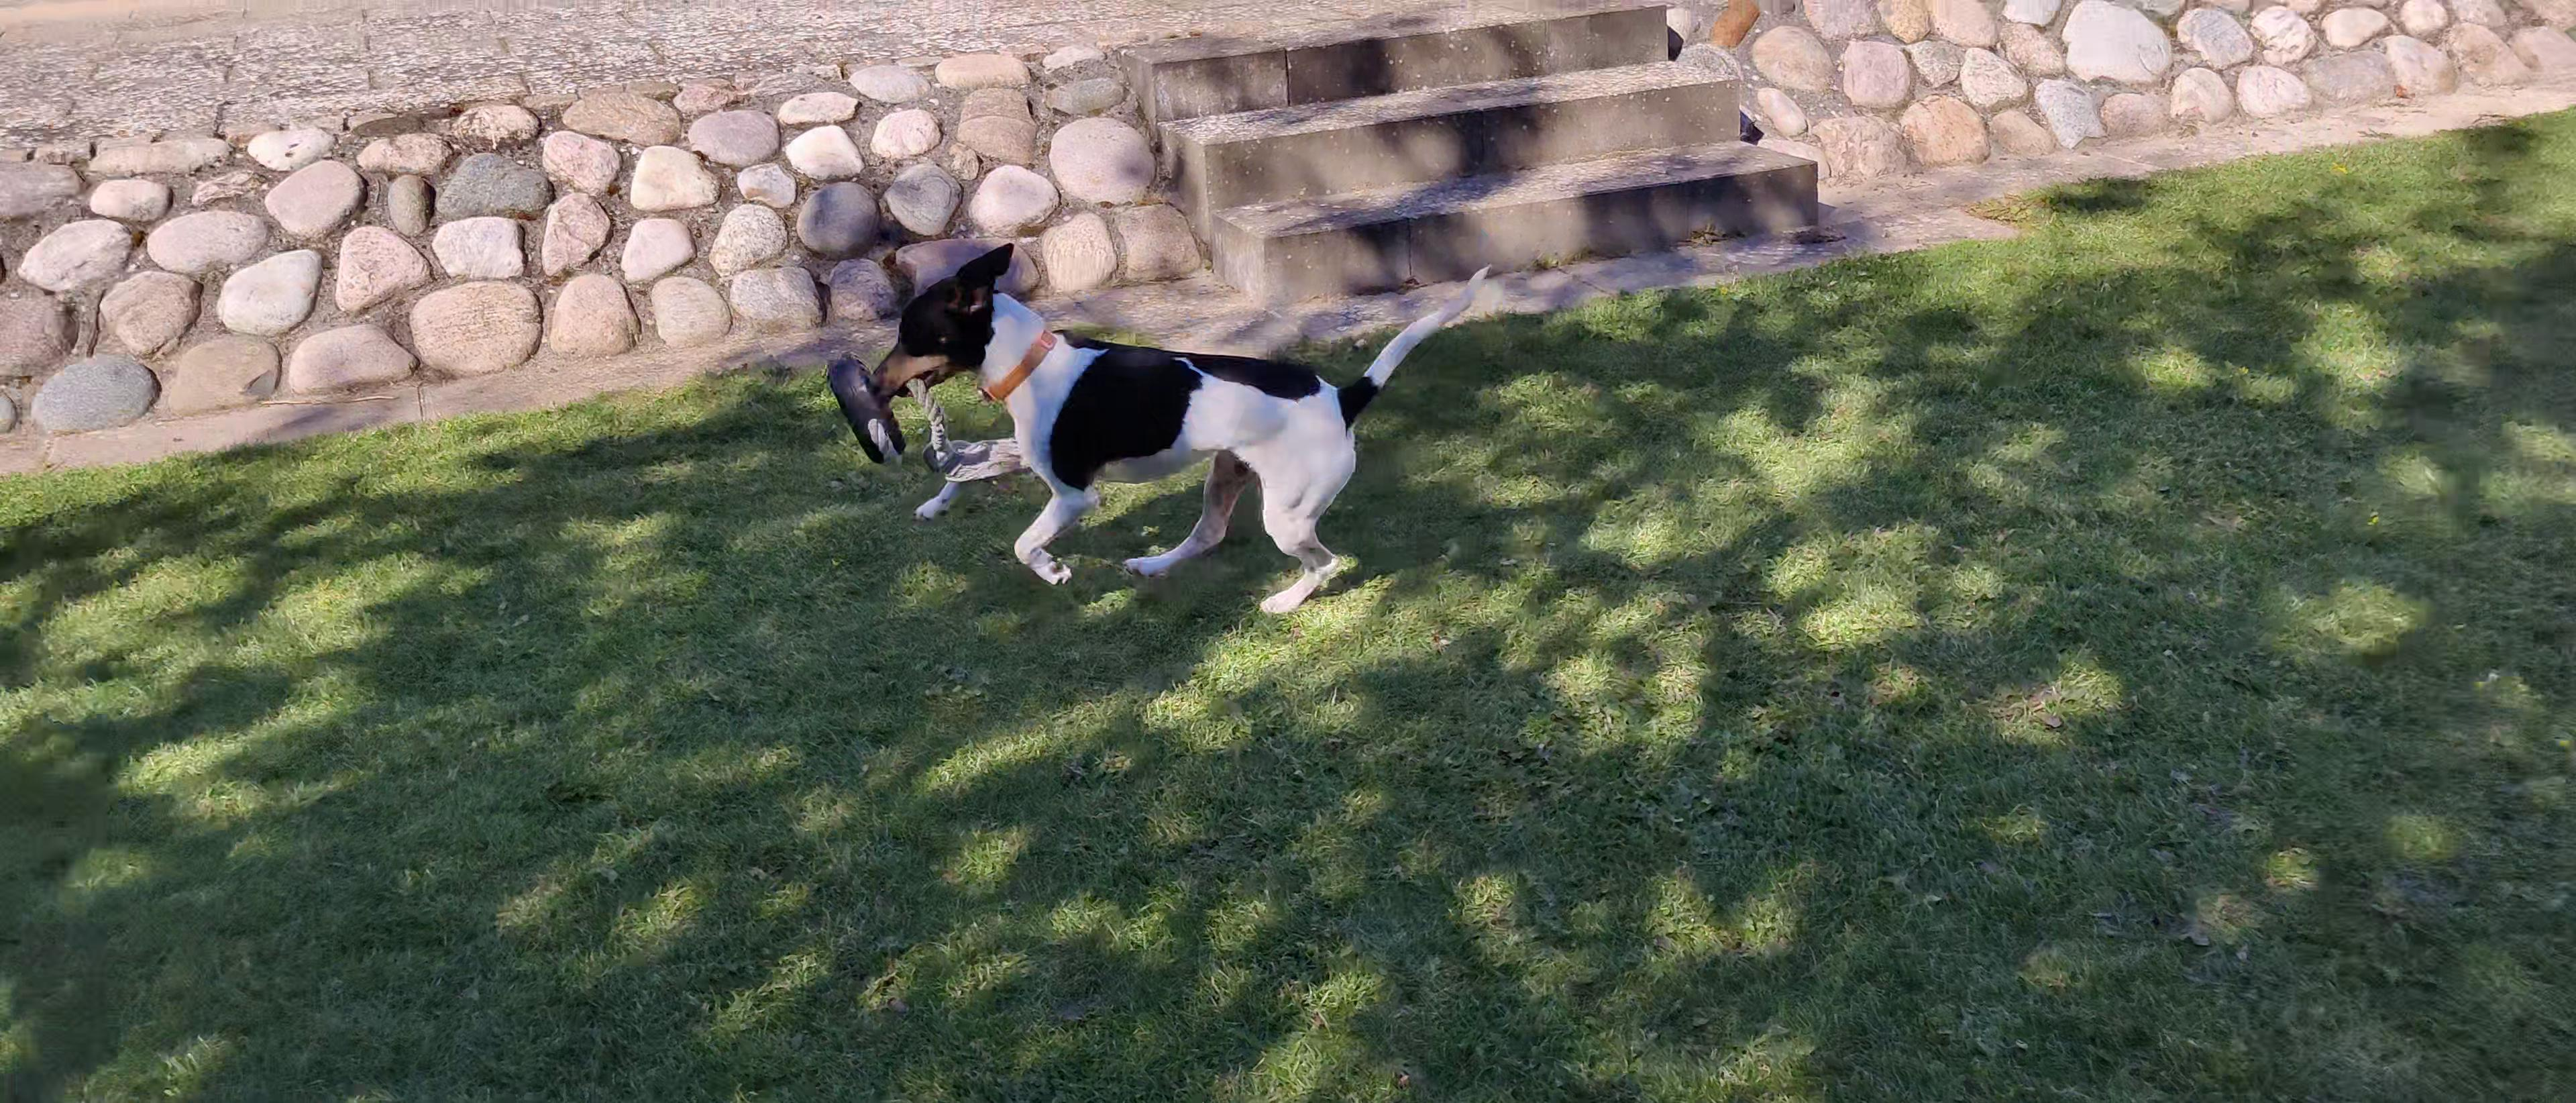Dog: (862, 240, 1498, 616)
